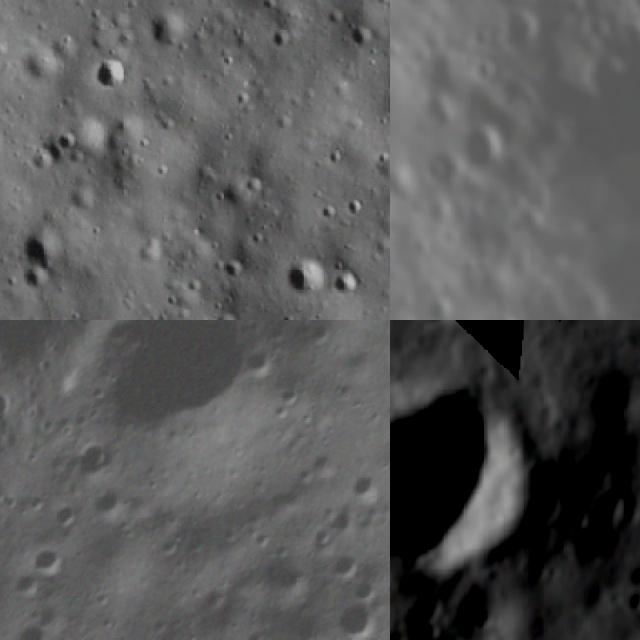crater: (390, 373, 546, 584), (524, 57, 640, 320), (89, 320, 272, 459), (450, 110, 519, 190), (331, 586, 390, 640), (564, 442, 617, 502), (273, 252, 334, 302), (494, 8, 552, 58), (26, 529, 78, 584), (592, 372, 640, 428), (143, 9, 196, 58), (72, 432, 122, 481), (16, 232, 69, 272), (18, 138, 69, 178), (94, 477, 137, 523), (328, 544, 371, 588), (245, 341, 286, 384), (331, 264, 370, 307), (349, 467, 390, 507), (89, 48, 129, 88), (12, 567, 50, 606), (465, 48, 502, 88), (303, 320, 346, 353), (53, 498, 88, 538), (408, 592, 450, 625), (351, 570, 385, 608), (25, 484, 60, 520), (329, 504, 364, 536), (310, 520, 341, 554), (202, 577, 232, 610), (14, 617, 57, 640), (282, 376, 312, 408), (475, 603, 500, 637), (156, 530, 185, 559), (570, 505, 596, 534), (347, 27, 375, 52), (272, 398, 298, 424), (421, 618, 446, 640), (489, 309, 532, 320), (631, 584, 640, 611)
